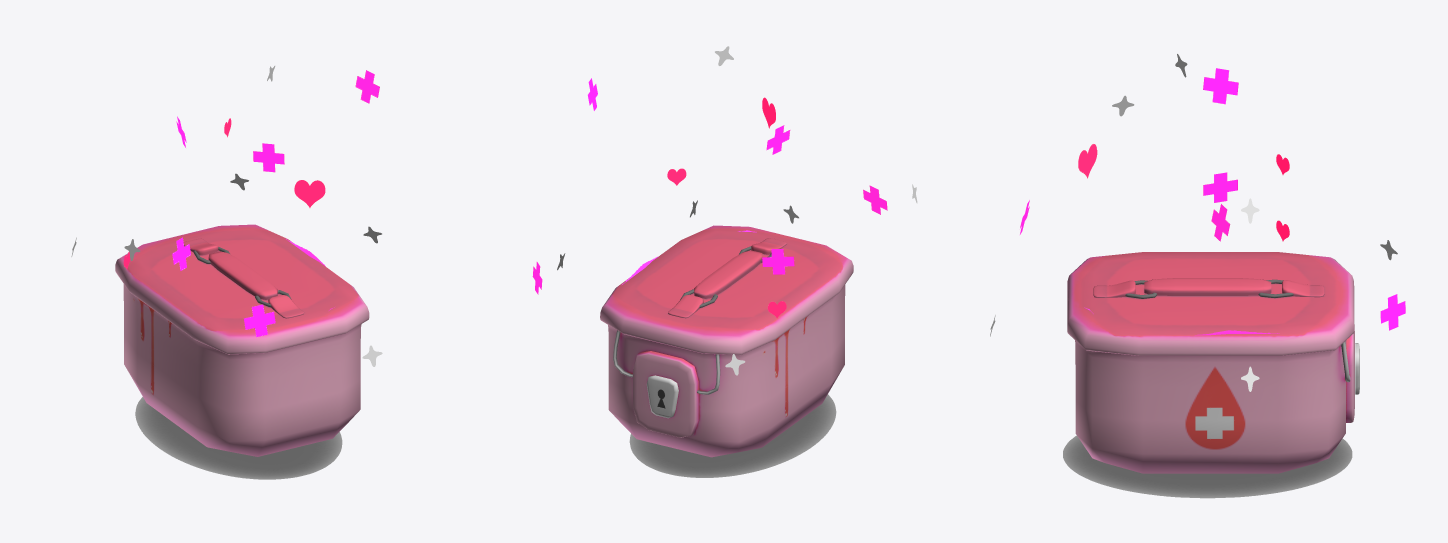
File: cutekit_nooutline.fbx
3 renders of one model, left to right at view 1: azimuth 30°, elevation 25°; view 2: azimuth 150°, elevation 25°; view 3: azimuth 270°, elevation 25°, orthographic. The views are drawn at different scales.
Parts seen in each view (by area): view 1: Kit; view 2: Kit; view 3: Kit.
Part boxes in pixels (box(x1,y1,x2,y2)): Kit: box(71, 66, 382, 479); Kit: box(532, 46, 917, 477); Kit: box(990, 54, 1405, 498).
Size of the model in its own units: 10.55 by 11.98 by 11.55.
